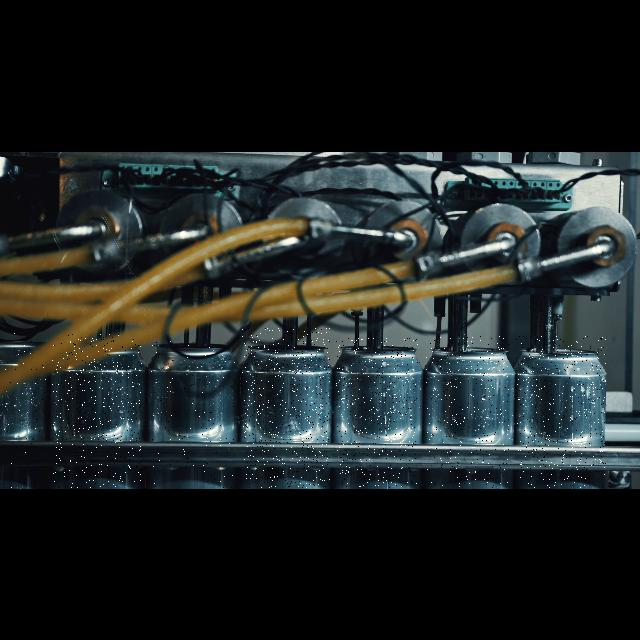empty: (242, 328, 330, 488), (52, 334, 142, 488), (516, 336, 606, 488), (426, 336, 510, 488), (151, 340, 235, 488), (336, 338, 418, 488), (2, 332, 46, 488)
